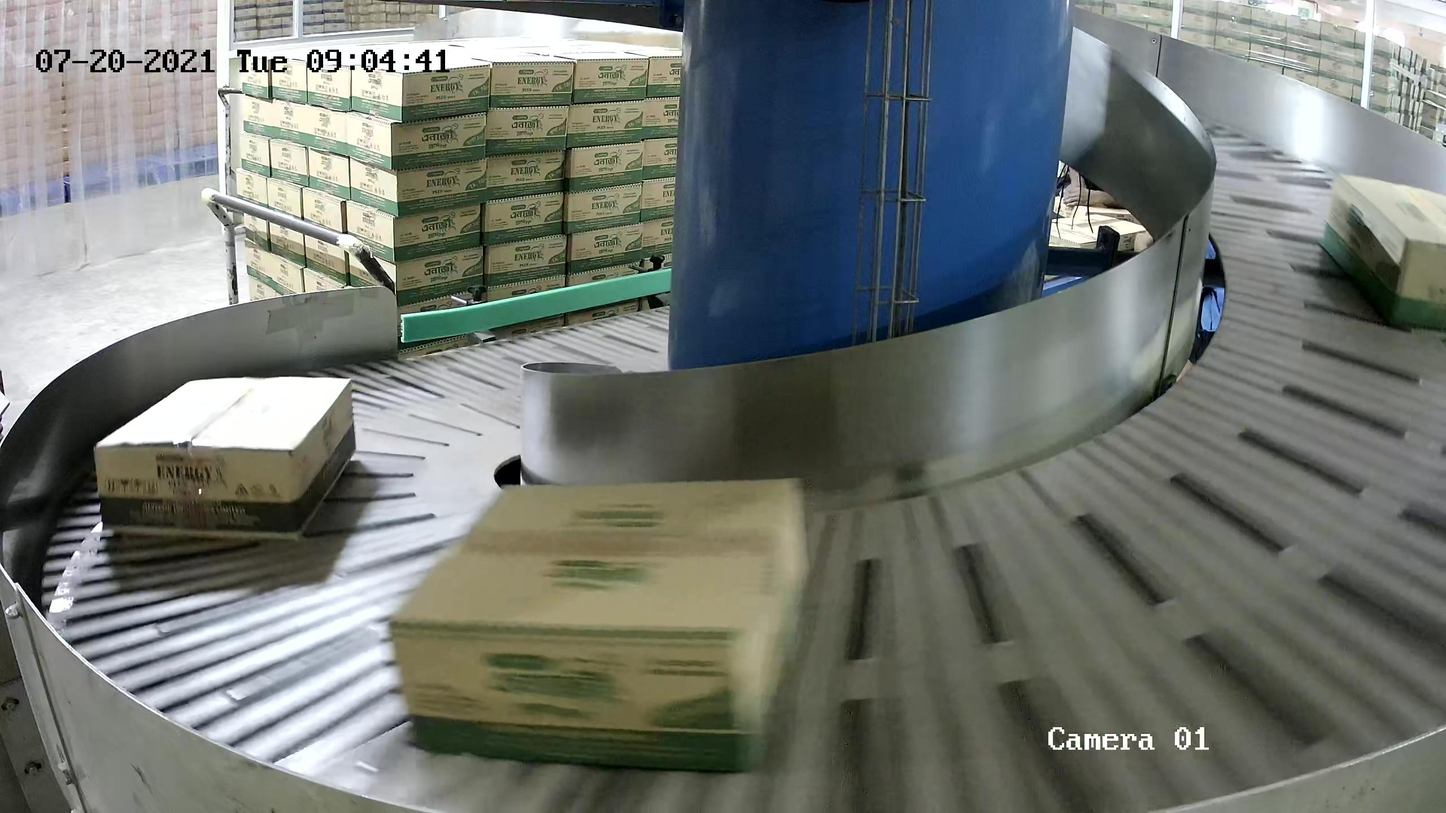Box: (386, 474, 812, 776), (92, 374, 357, 542), (1319, 173, 1446, 330)
